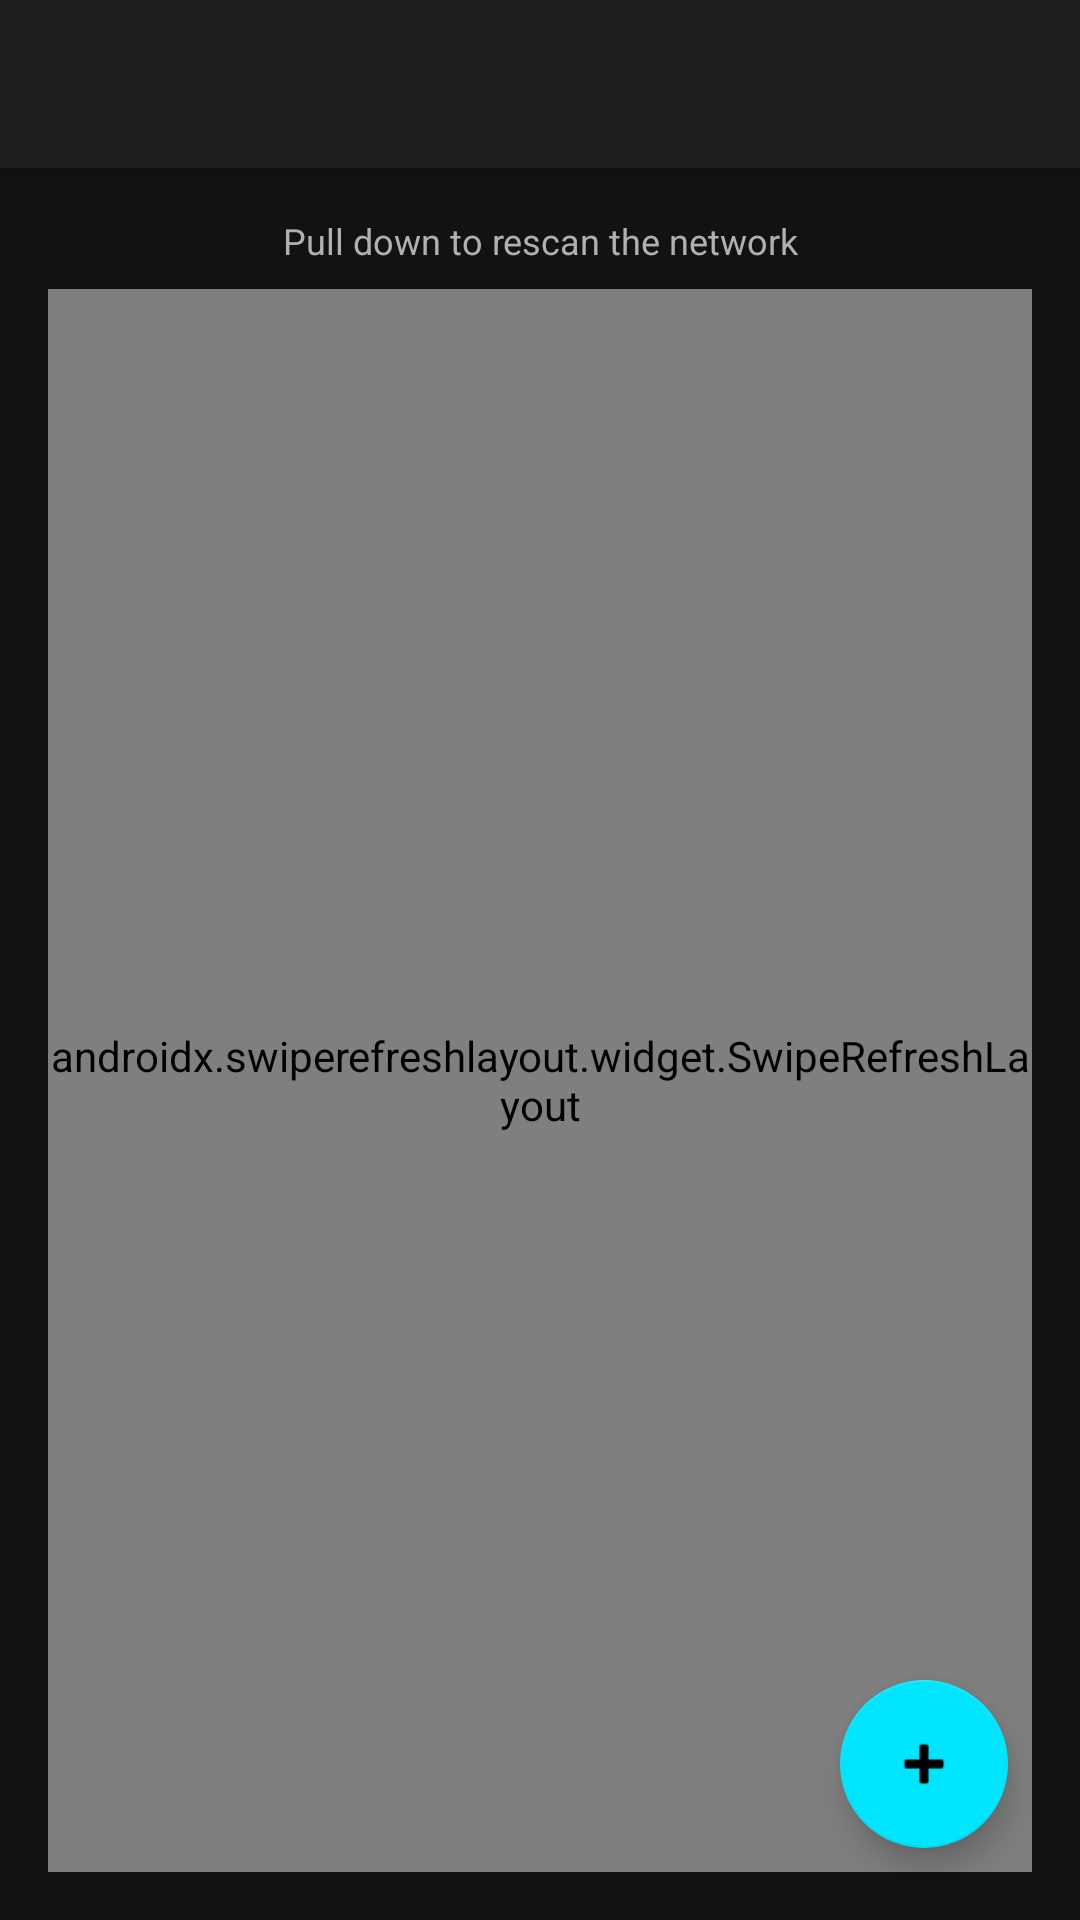

Locate icon controls on the screen. Image size 1080w x 1920h, boxes as (x1, y1, x2, y2).
Add Device Manually: (840, 1680, 1008, 1848)
